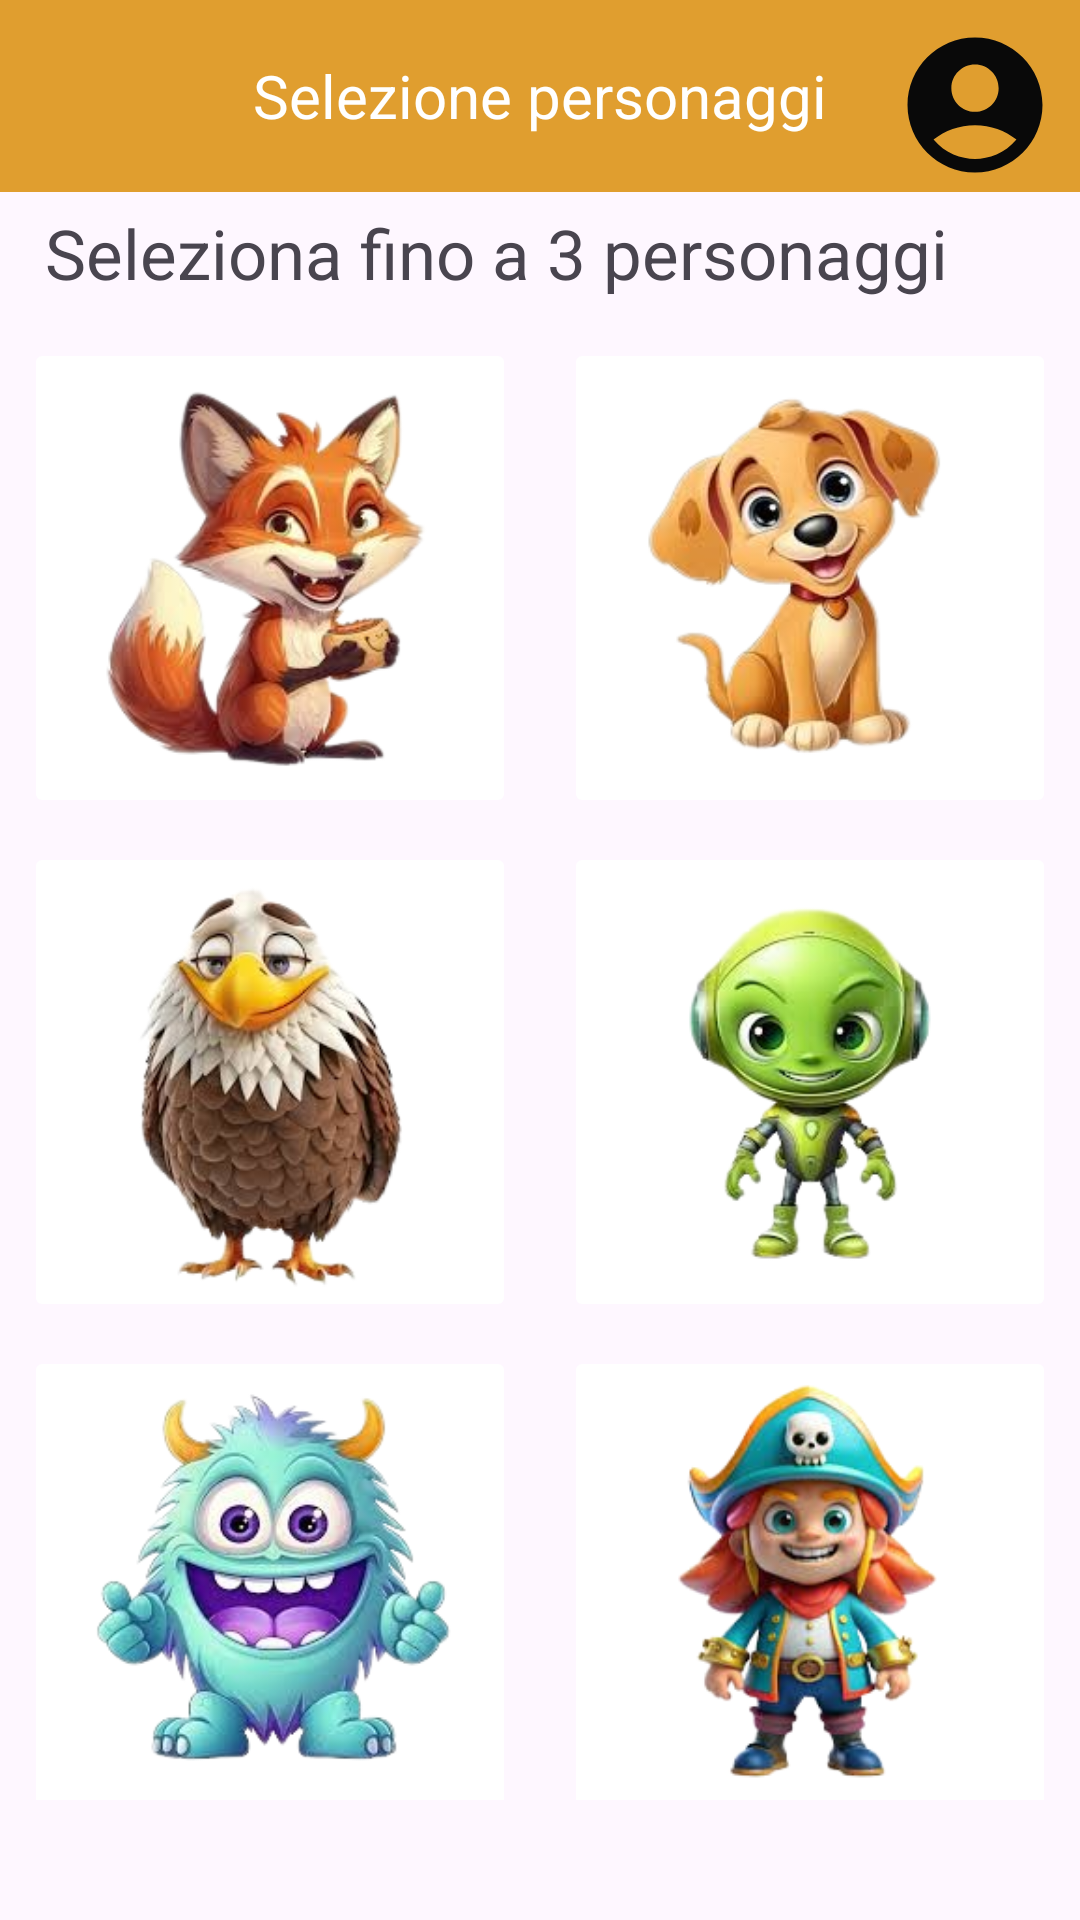

Icons on this 1080 x 1920 Android screen, each with the point to tap as [x,y]:
account circle: [975,105]
